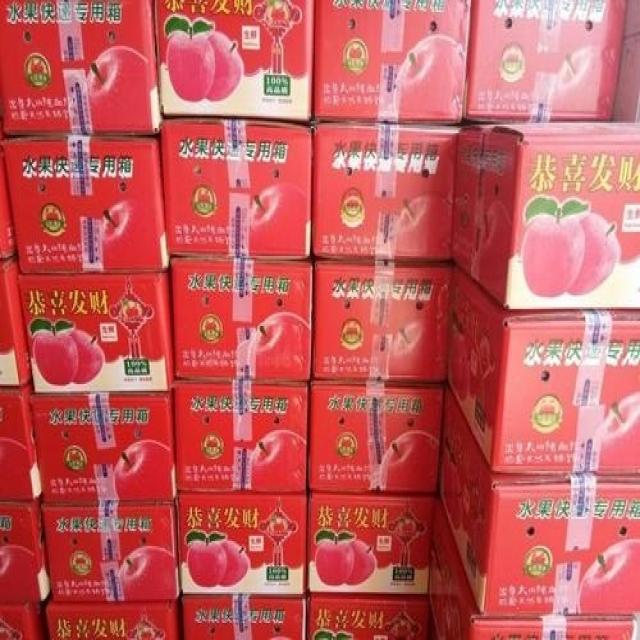box: (438, 389, 640, 616), (445, 261, 640, 478), (472, 121, 640, 311), (429, 490, 630, 640), (0, 133, 173, 275), (0, 0, 163, 133), (160, 116, 314, 256), (311, 121, 462, 261), (463, 0, 631, 121), (312, 0, 471, 125), (18, 273, 177, 393), (156, 0, 311, 121), (172, 258, 314, 382), (312, 259, 448, 382), (33, 394, 175, 503), (308, 381, 444, 493), (173, 382, 307, 495), (44, 502, 182, 604), (306, 493, 435, 597), (177, 493, 307, 594), (307, 594, 438, 640), (47, 599, 184, 640), (183, 596, 305, 640), (1, 500, 50, 606), (454, 125, 485, 280), (0, 389, 42, 502), (0, 258, 32, 387), (0, 143, 15, 259), (6, 608, 46, 638)
